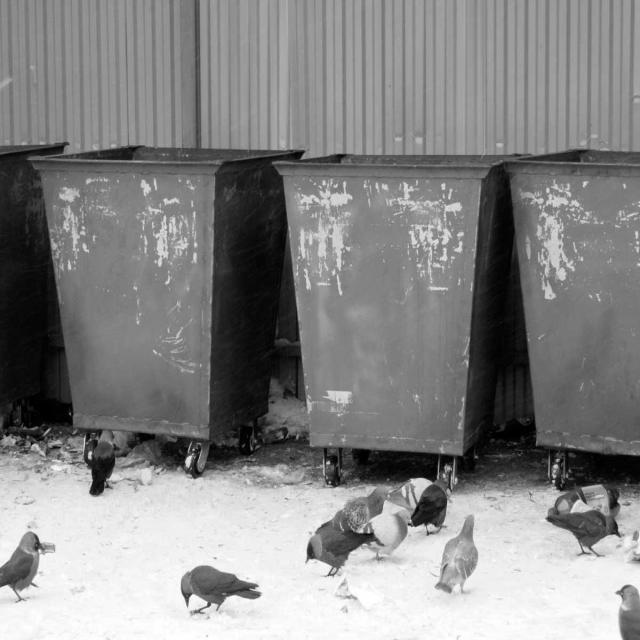Trashcan: (19, 99, 319, 486), (266, 98, 540, 494), (488, 116, 638, 502), (0, 106, 83, 454)
